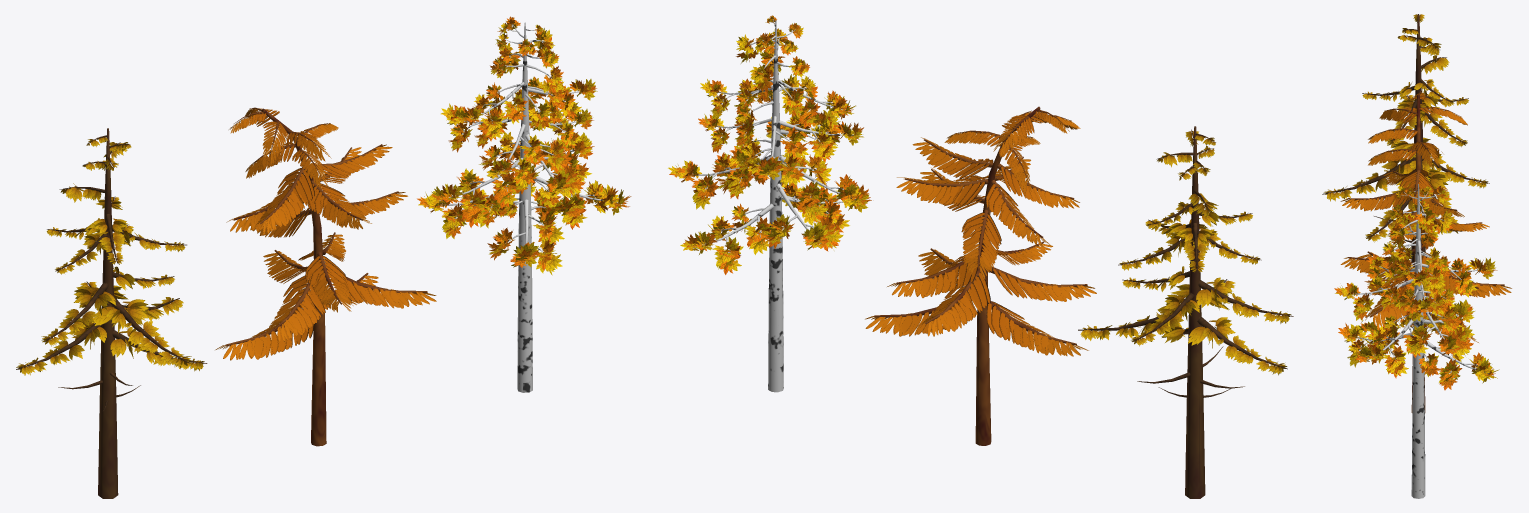
File: stylized_aumtumn_trees_pack_animation_baked.glb
3 renders of one model, left to right at view 1: azimuth 30°, elevation 25°; view 2: azimuth 150°, elevation 25°; view 3: azimuth 270°, elevation 25°, orthographic. The views are drawn at different scales.
Parts seen in each view (by area): view 1: Tree1, tree2, tree3; view 2: Tree1, tree2, tree3; view 3: Tree1, tree2, tree3.
Part boxes in pixels (<box>): Tree1: <box>417,16,631,392</box>; tree2: <box>215,107,436,446</box>; tree3: <box>16,128,207,498</box>; Tree1: <box>668,15,871,392</box>; tree2: <box>865,106,1096,445</box>; tree3: <box>1078,126,1293,498</box>; Tree1: <box>1334,184,1499,498</box>; tree2: <box>1340,91,1511,412</box>; tree3: <box>1322,14,1489,328</box>.
Size of the model in its own units: 6.85 by 4.05 by 2.24.
Materials: 3 (3 with a texture image).
